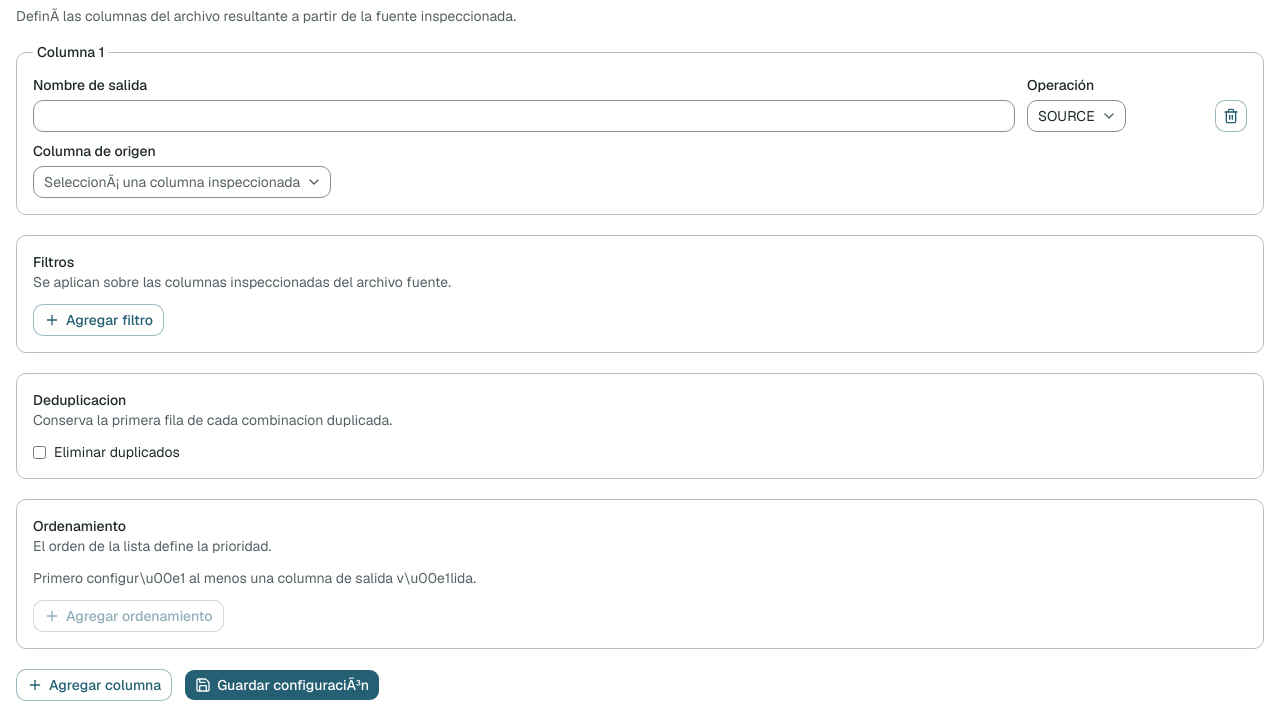
Scenario: TransformationConfigurationBuilder › agrega y elimina columnas del draft
(page scrolled)
Expected: the text "Columna 1" is shown, [33,42,108,62]
What coordinates should you click on to do the following:
click the button "Agregar columna"
I would click on:
 (94, 685)
Its box is [16,669,172,701].
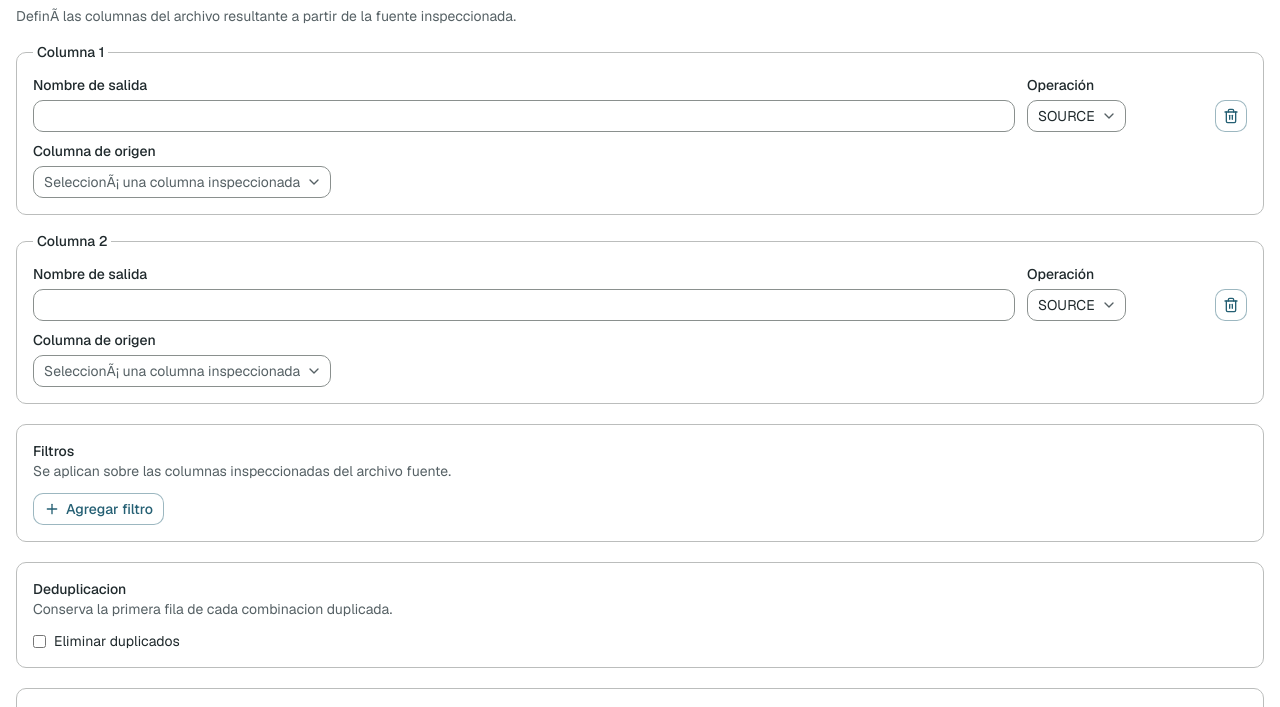
Expected: the text "Columna 2" is shown, [33,231,112,251]
What coordinates should you click on to do the following:
click the button named "Eliminar columna 2"
I would click on:
 (1231, 305)
Its box is [1215,289,1247,321].
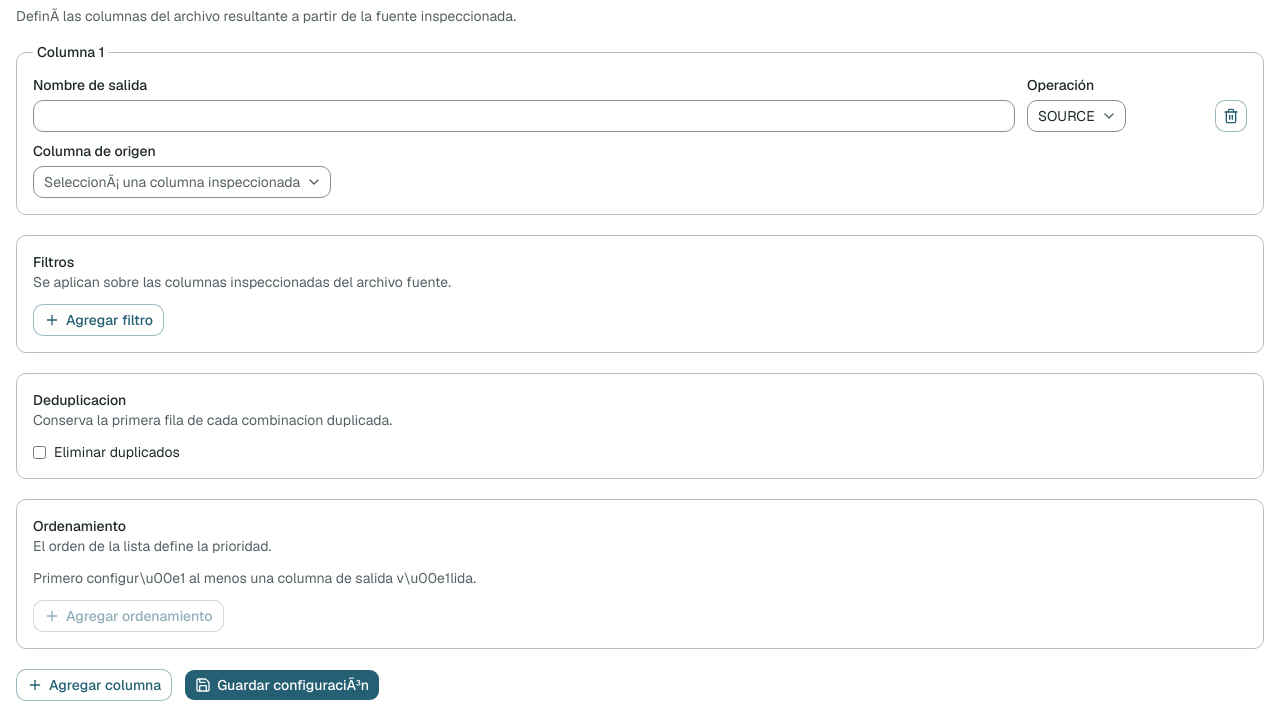
Expected: the text "Columna 2" is gone
